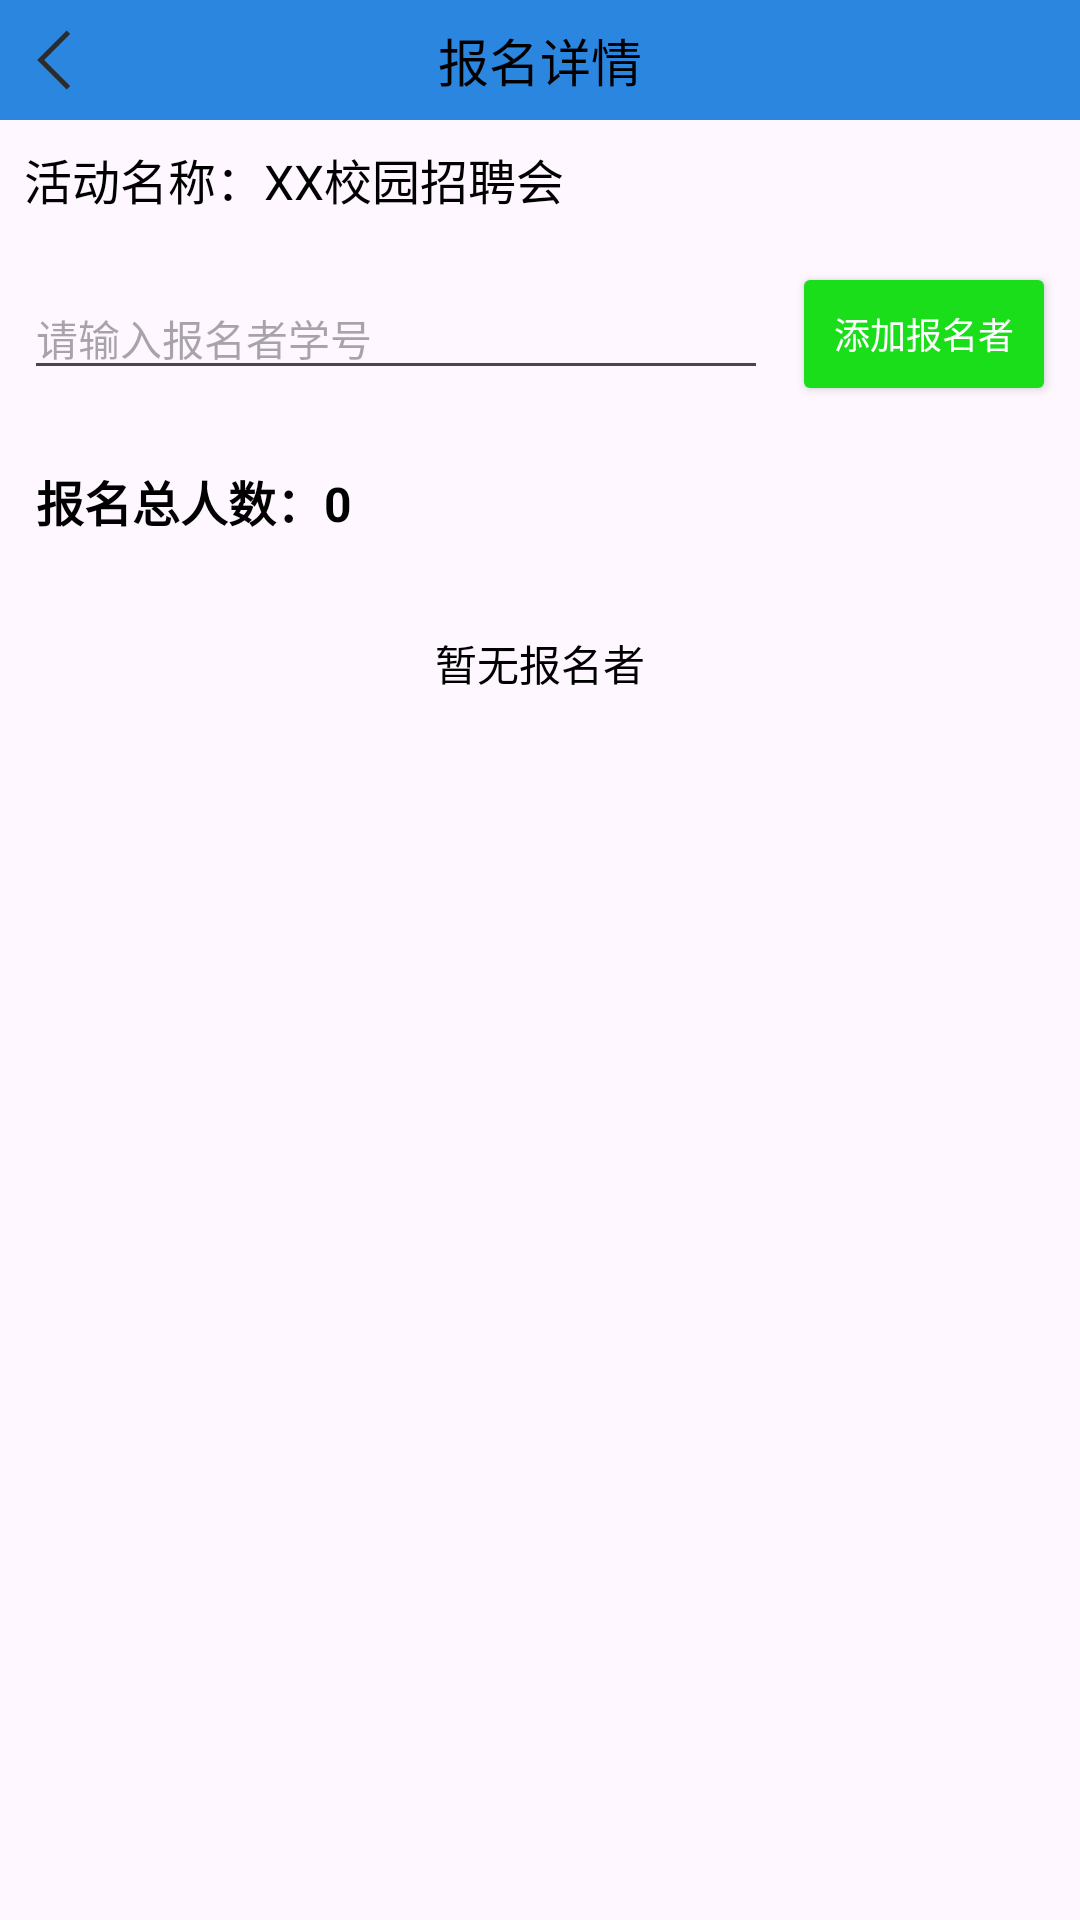

Screen size 1080px×1920px. Icon name, then its center in pixels as [x,y]:
back: [53,60]
